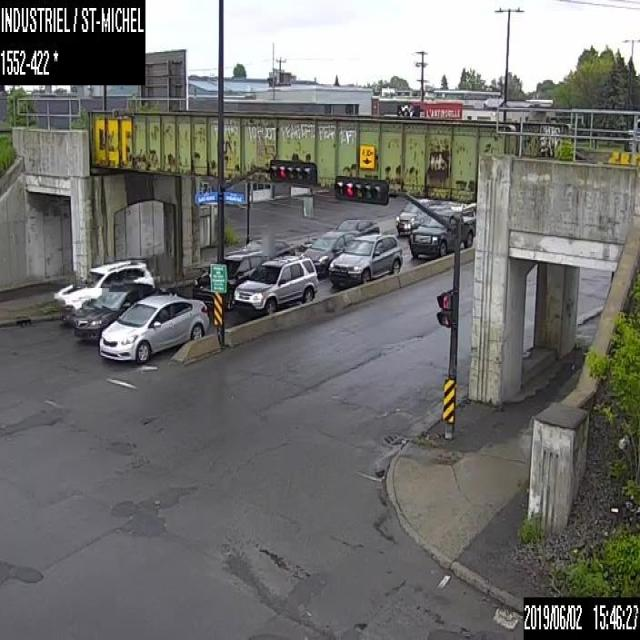vehicle: (99, 293, 208, 362), (54, 256, 154, 323), (72, 282, 162, 340), (233, 254, 317, 314), (192, 251, 264, 309), (328, 232, 402, 285), (409, 211, 473, 257), (300, 230, 360, 276), (396, 198, 434, 233), (334, 218, 379, 234), (276, 240, 294, 255)
